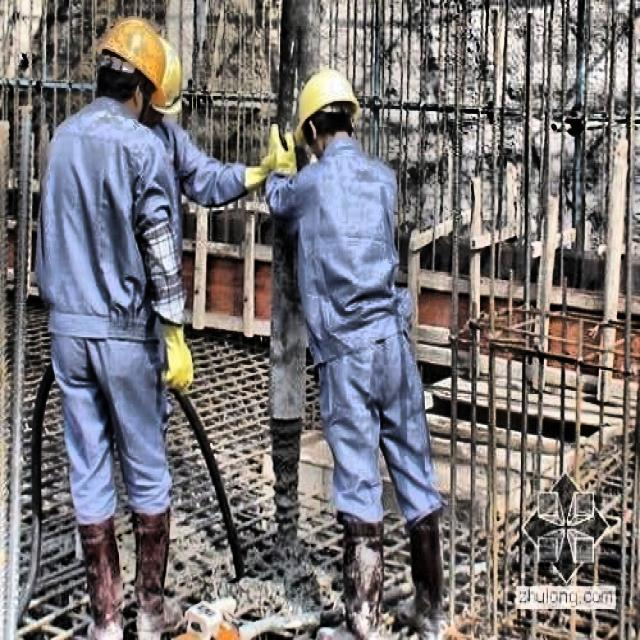helmet: (91, 15, 165, 125), (292, 64, 366, 164), (144, 39, 186, 139)
